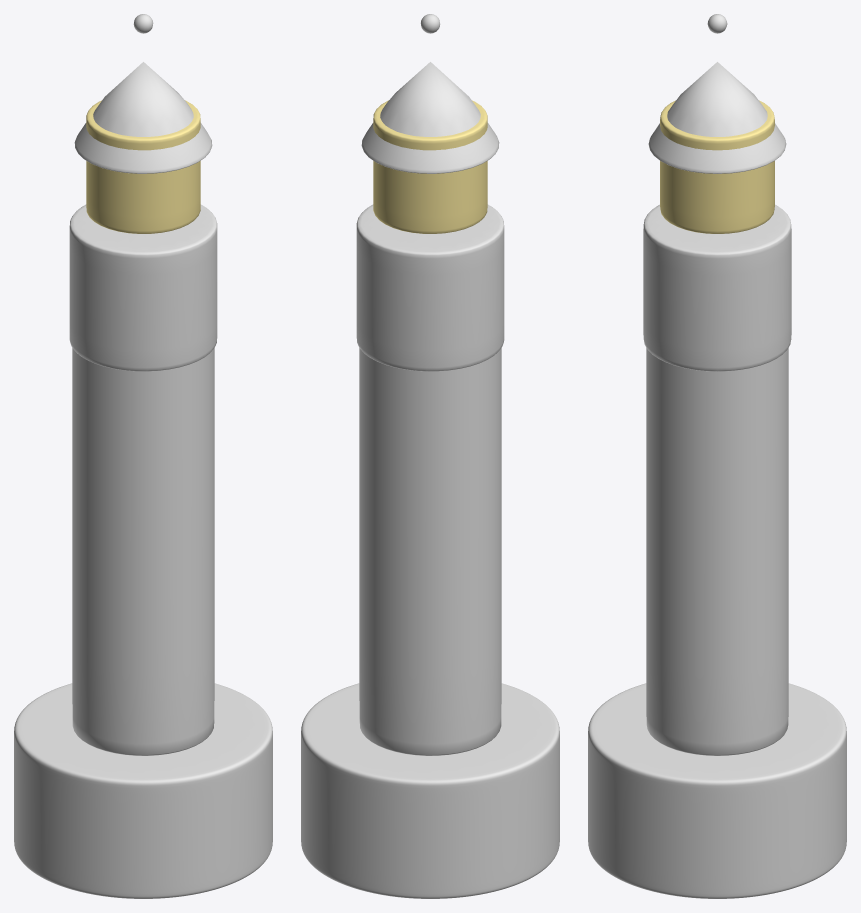
File: leuchtturm_premium_lod2.fbx
3 views of the same model, side by side, from view 1: azimuth 30°, elevation 25°; view 2: azimuth 150°, elevation 25°; view 3: azimuth 270°, elevation 25° (orthographic).
Visible parts, largest first — view 1: Leuchtturm_Turm, Leuchtturm_Sockel, Leuchtturm_Ring_Weiss, Leuchtturm_Laterne, Leuchtturm_Dach; view 2: Leuchtturm_Turm, Leuchtturm_Sockel, Leuchtturm_Ring_Weiss, Leuchtturm_Laterne, Leuchtturm_Dach; view 3: Leuchtturm_Turm, Leuchtturm_Sockel, Leuchtturm_Ring_Weiss, Leuchtturm_Laterne, Leuchtturm_Dach.
Boxes of the visible parts, x1,y1,x2,y2 form: Leuchtturm_Turm: [72, 348, 214, 755]; Leuchtturm_Sockel: [14, 683, 272, 898]; Leuchtturm_Ring_Weiss: [69, 204, 217, 371]; Leuchtturm_Laterne: [86, 100, 200, 233]; Leuchtturm_Dach: [74, 62, 212, 173]; Leuchtturm_Turm: [359, 348, 501, 755]; Leuchtturm_Sockel: [301, 683, 559, 898]; Leuchtturm_Ring_Weiss: [356, 204, 504, 371]; Leuchtturm_Laterne: [373, 100, 487, 233]; Leuchtturm_Dach: [361, 62, 499, 173]; Leuchtturm_Turm: [646, 348, 788, 755]; Leuchtturm_Sockel: [588, 683, 846, 898]; Leuchtturm_Ring_Weiss: [643, 204, 791, 371]; Leuchtturm_Laterne: [660, 100, 774, 233]; Leuchtturm_Dach: [648, 62, 786, 173].
Bounding box in the file's own units: 3.95 × 14 × 3.95.
